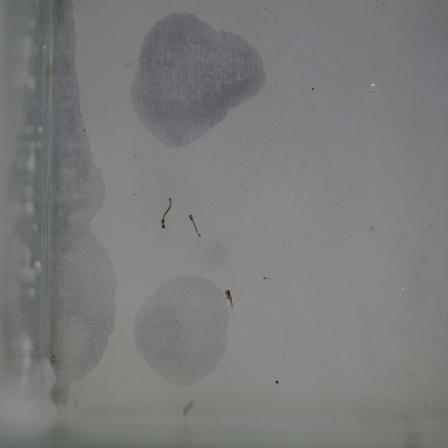Jentik-Nyamuk: (186, 212, 209, 241), (156, 193, 174, 230), (221, 286, 238, 311)
